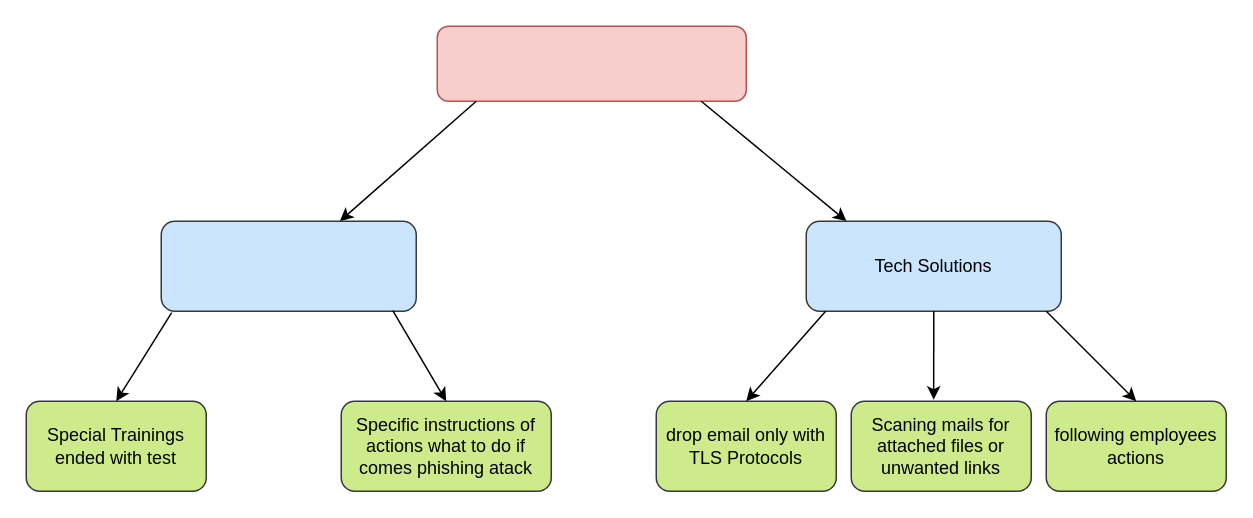
Image size: 1253x518. Some labels were removed from this diagram. Here are the shapes that lost their labels. From the top down, the centre of each, then its label:
the point at 591,63: No More Phishing
the point at 288,265: Human Solutions
